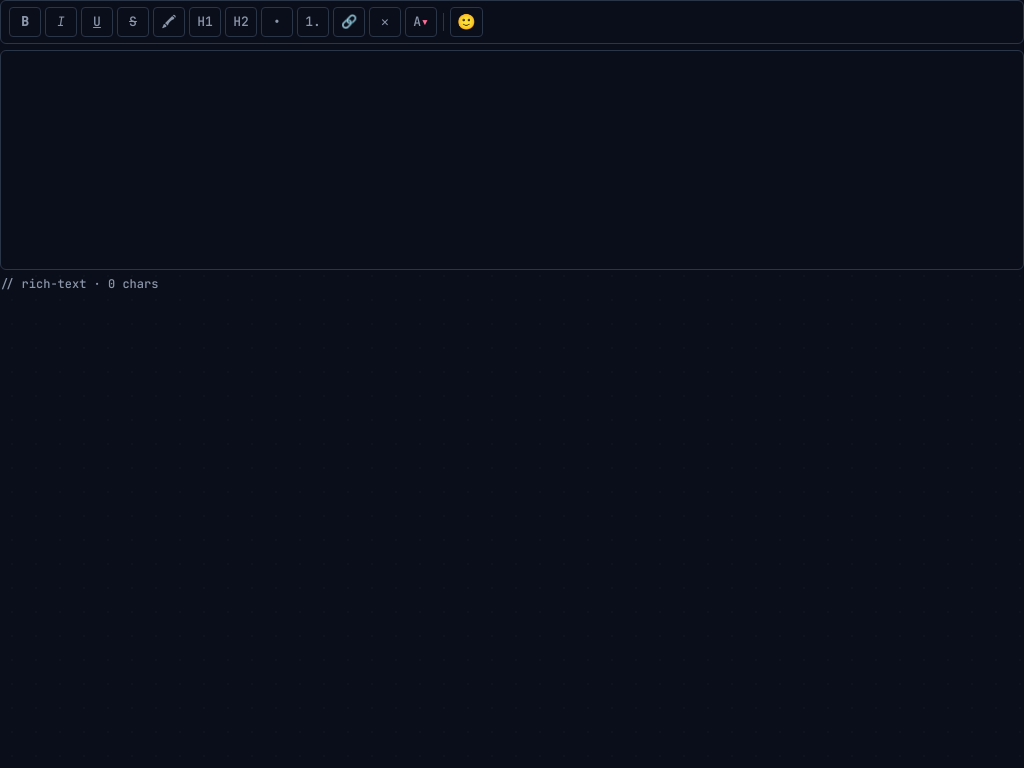
Test case: RichTextEditor (T-435 — TipTap engine) › emoji picker integration (T-397) › select emoji → picker GIỮ mở (chỉ × đóng — design behavior)
This screenshot has width=1024, height=768.
Click the button with test id "rte-btn-emoji" at point(466, 22), box top-left (450, 7), bottom-right (483, 37)
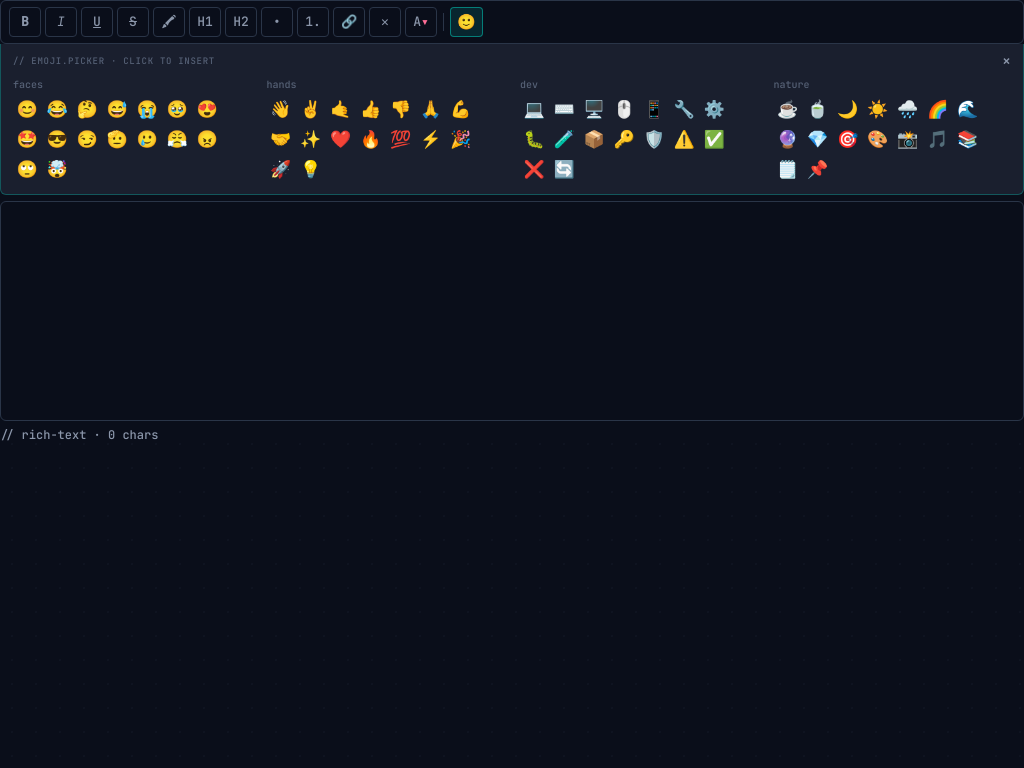
Click the cell named "Insert 😊" at point(27, 110), box top-left (13, 96), bottom-right (41, 124)
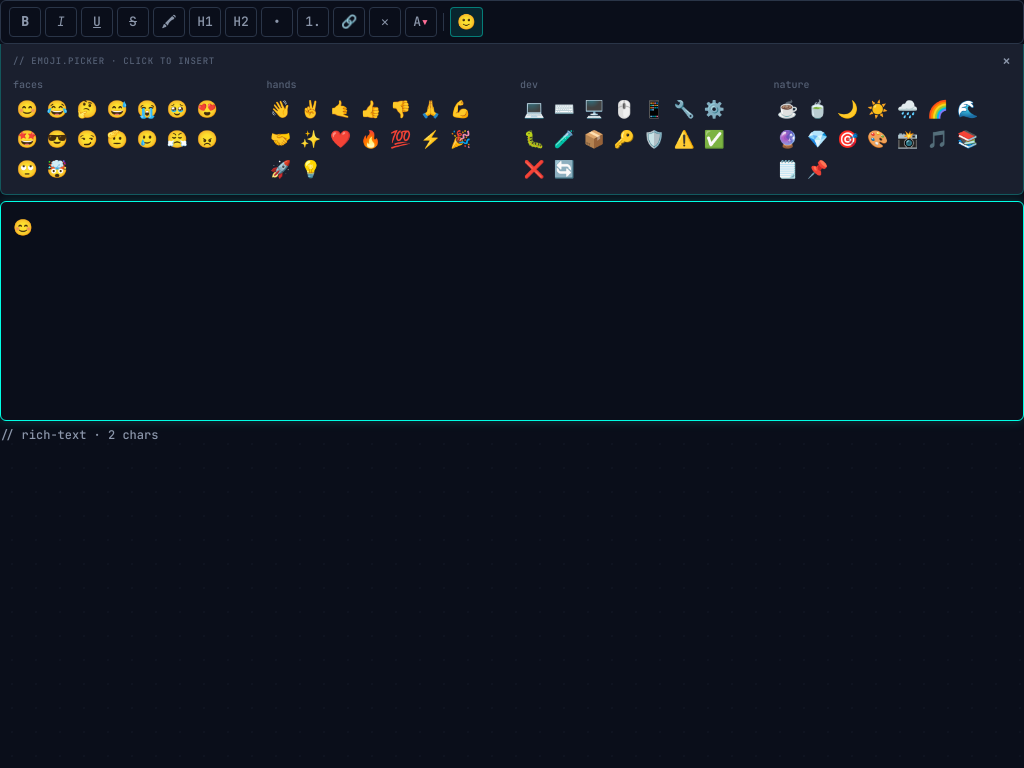
Expected: the dialog with test id "emoji-picker" is shown, top-left (0, 44), bottom-right (1023, 195)
Click the button with test id "emoji-picker-close" at point(1006, 62), box top-left (1002, 54), bottom-right (1011, 69)
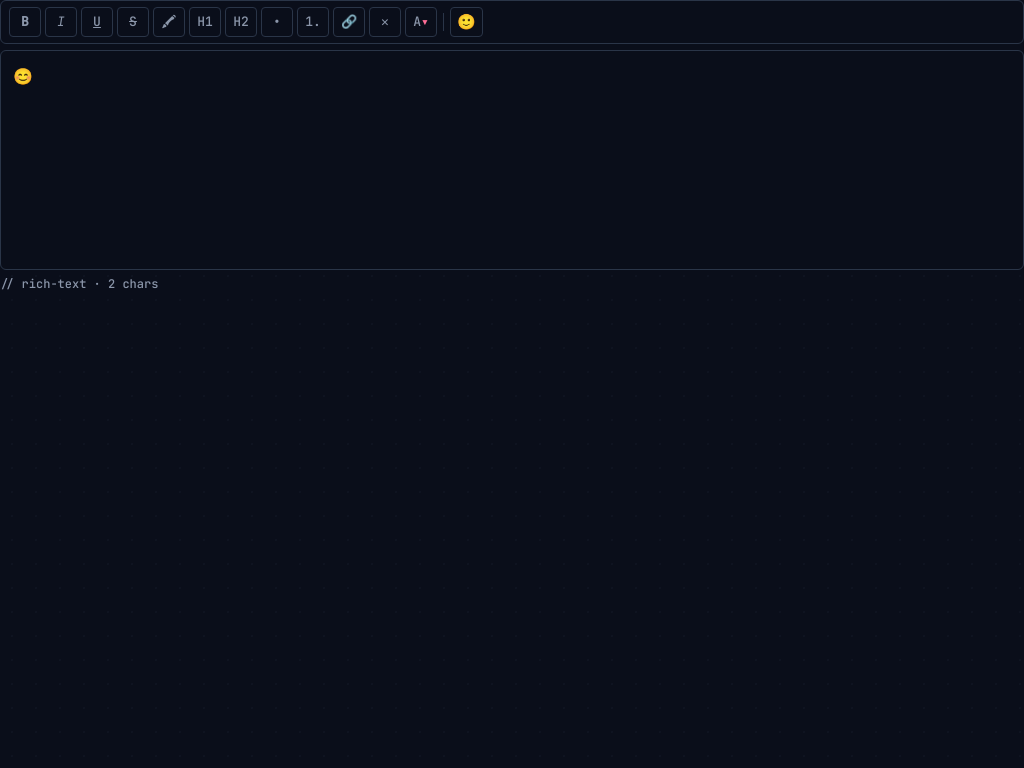
Expected: the dialog with test id "emoji-picker" is gone
